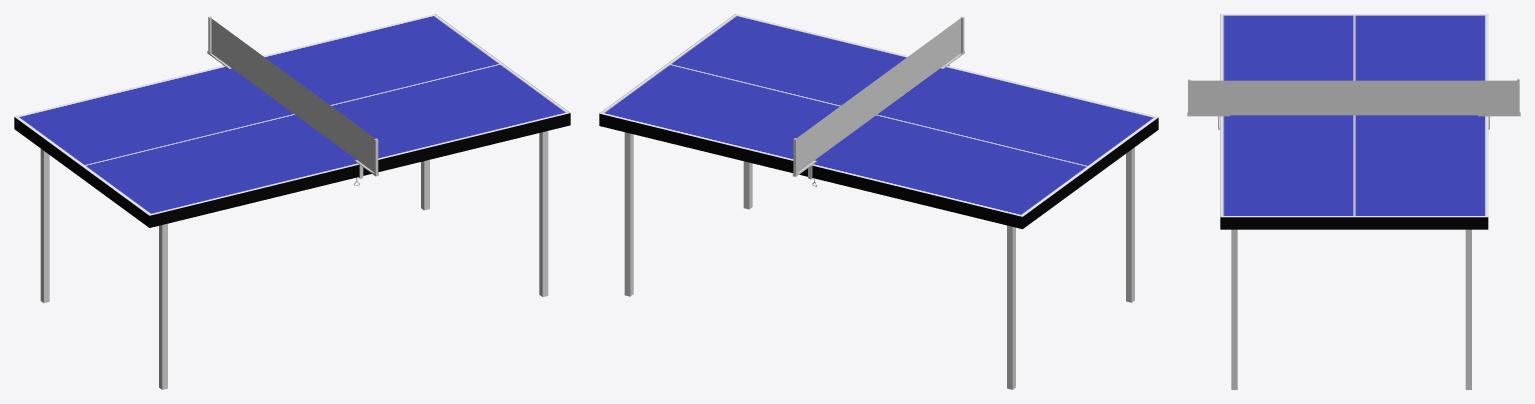
The model's file is tabletennis_table.dae.
The picture shows the model from 3 angles, left to right: view 1: azimuth 30°, elevation 25°; view 2: azimuth 150°, elevation 25°; view 3: azimuth 270°, elevation 25°; orthographic projection.
Parts seen in each view (by area): view 1: Cube.011, Plane, Cube.001, Cube.015, Cube.014, Plane.002; view 2: Cube.011, Plane, Cube.019, Cube.015, Cube.014, Plane.002; view 3: Cube.011, Plane, Plane.002, Cube.001, Cube.019, Plane.005.
Part boxes in pixels (bbox=[...]): Cube.011: bbox=[14, 14, 570, 227]; Plane: bbox=[211, 21, 374, 170]; Cube.001: bbox=[539, 131, 548, 296]; Cube.015: bbox=[40, 149, 49, 303]; Cube.014: bbox=[159, 223, 167, 389]; Plane.002: bbox=[211, 19, 375, 139]; Cube.011: bbox=[599, 14, 1158, 229]; Plane: bbox=[797, 21, 960, 170]; Cube.019: bbox=[624, 132, 633, 296]; Cube.015: bbox=[1007, 225, 1015, 389]; Cube.014: bbox=[1126, 147, 1134, 302]; Plane.002: bbox=[796, 18, 960, 139]; Cube.011: bbox=[1220, 14, 1488, 229]; Plane: bbox=[1190, 83, 1516, 113]; Plane.002: bbox=[1190, 80, 1516, 83]; Cube.001: bbox=[1231, 229, 1237, 389]; Cube.019: bbox=[1465, 229, 1471, 389]; Plane.005: bbox=[1190, 113, 1516, 115].
Bounding box in the file's own units: 6.57 × 4.55 × 3.28.
Materials: 10 (2 with a texture image).
